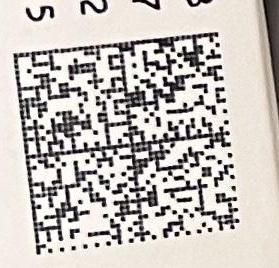datamatrix: (13, 33, 241, 256)
